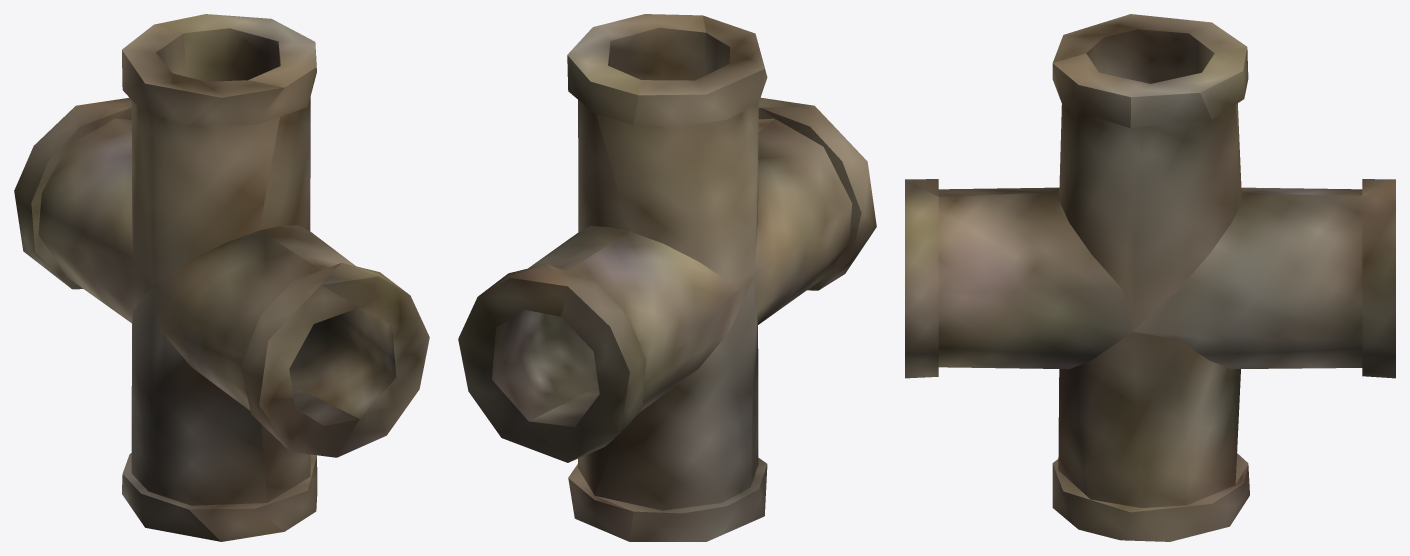
Rendered from pipe-elbow-wide.lod1.glb.
The picture shows the model from 3 angles, left to right: view 1: azimuth 30°, elevation 25°; view 2: azimuth 150°, elevation 25°; view 3: azimuth 270°, elevation 25°; orthographic projection.
Parts seen in each view (by area): view 1: pipe-elbow-wide; view 2: pipe-elbow-wide; view 3: pipe-elbow-wide.
Part boxes in pixels (box(x1,y1,x2,y2)): pipe-elbow-wide: box(14, 14, 429, 541); pipe-elbow-wide: box(458, 14, 876, 541); pipe-elbow-wide: box(905, 14, 1395, 541).
Bounding box in the file's own units: 0.2852 × 0.7028 × 0.7028.
Materials: 1 (1 with a texture image).
